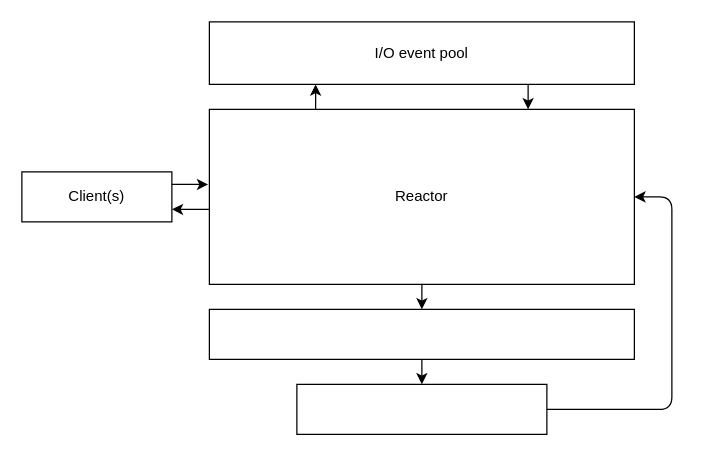
This 704x456 diagram has some shape labels left out. Each missing label, with the box of its shape:
Thread pool: (208, 308, 634, 359)
Worker: (296, 383, 547, 434)
